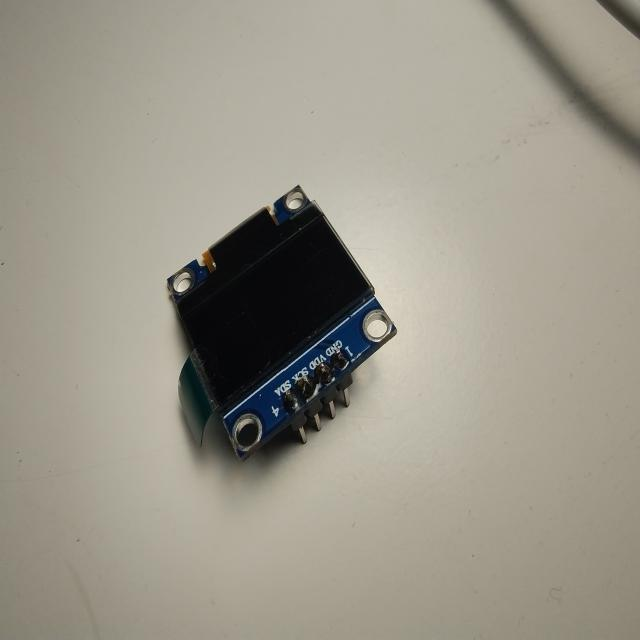oled: (162, 174, 398, 479)
